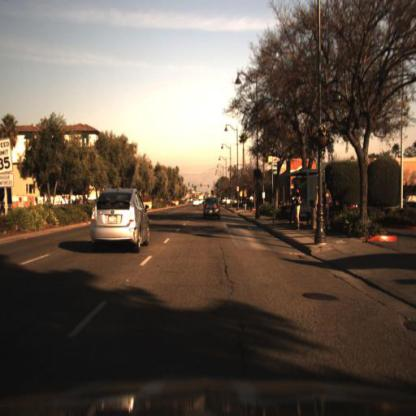car: (84, 184, 152, 254), (202, 192, 225, 224), (193, 198, 200, 208)
pedestrian: (322, 180, 332, 240), (295, 188, 304, 230), (296, 182, 302, 231), (242, 193, 250, 219), (249, 193, 257, 215)
